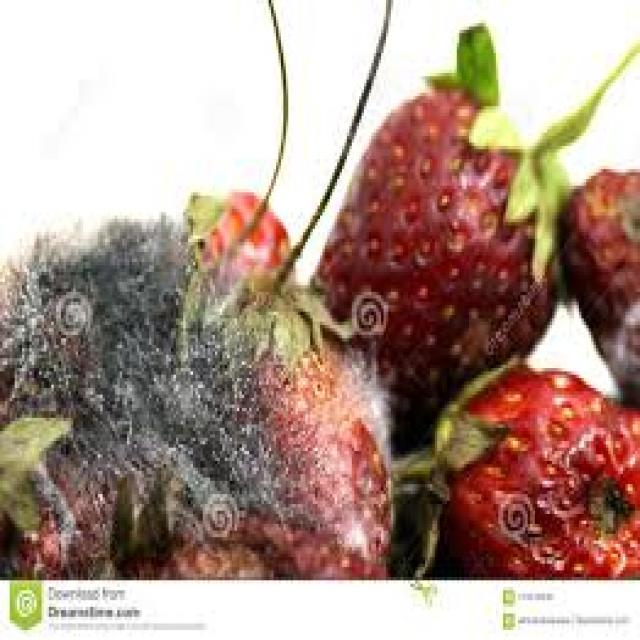organic waste: (306, 20, 638, 418), (396, 355, 638, 577), (0, 212, 186, 441), (242, 342, 388, 577), (108, 458, 381, 574), (0, 411, 115, 574), (557, 169, 638, 398), (180, 186, 296, 295)
